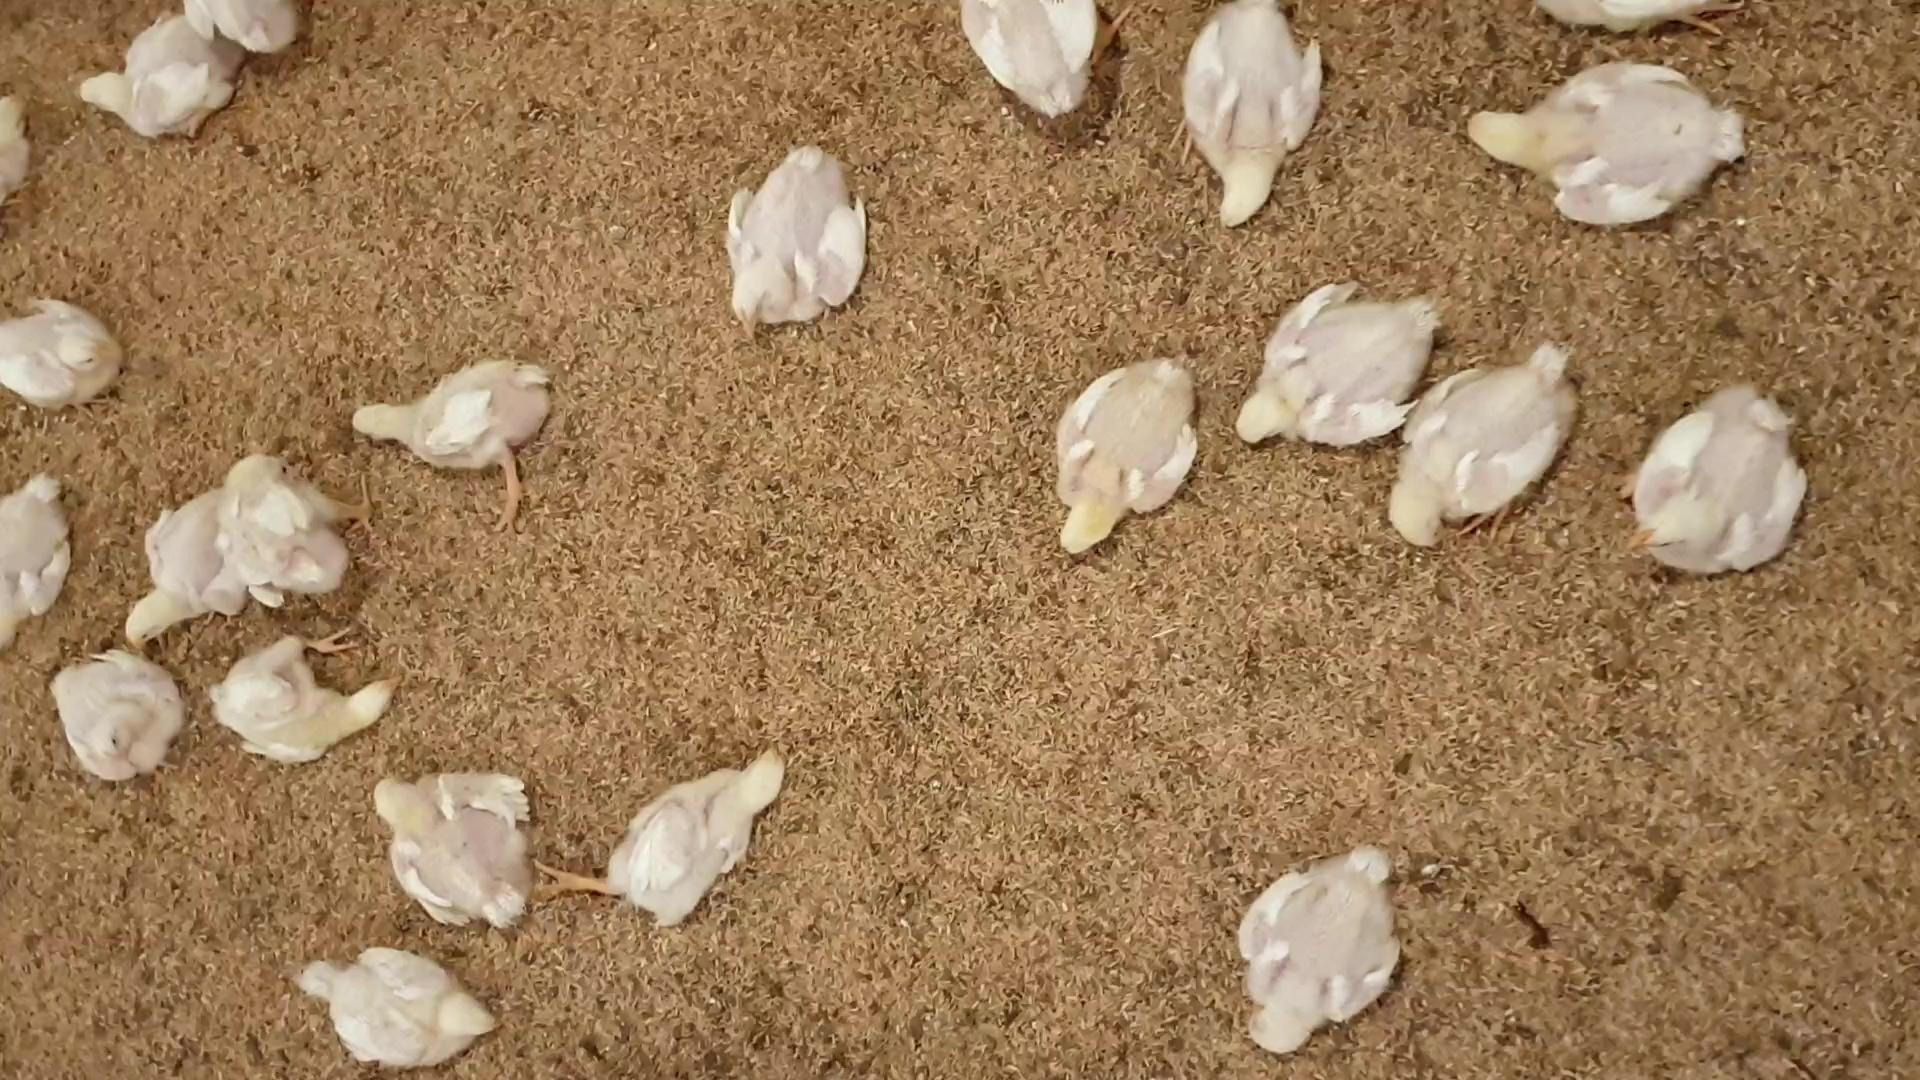Pollos: (1470, 55, 1758, 225), (1389, 342, 1590, 549), (1629, 382, 1813, 578), (1174, 0, 1327, 235), (1237, 843, 1407, 1048), (608, 742, 783, 919), (1236, 291, 1443, 439), (1048, 347, 1191, 556), (717, 140, 862, 332), (371, 771, 545, 924), (291, 944, 498, 1068), (356, 359, 556, 465), (208, 452, 357, 595), (214, 641, 400, 746), (80, 18, 223, 136), (55, 651, 189, 775), (120, 508, 225, 658), (11, 286, 120, 405)
